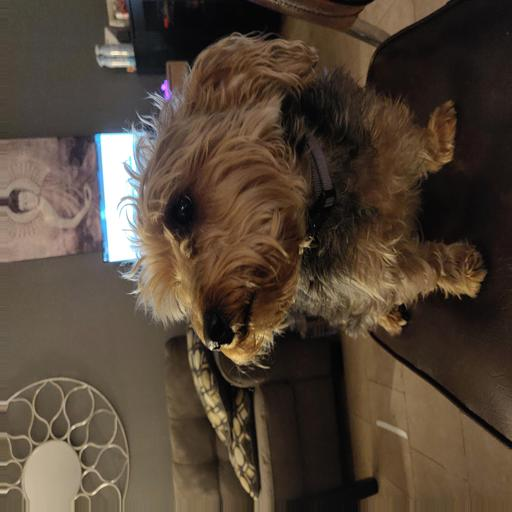dog: (117, 31, 439, 353)
